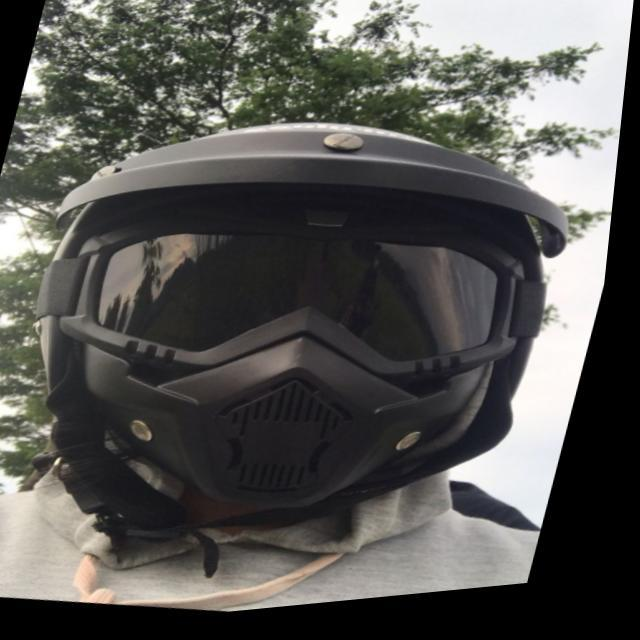Helmet: (31, 120, 568, 537)
